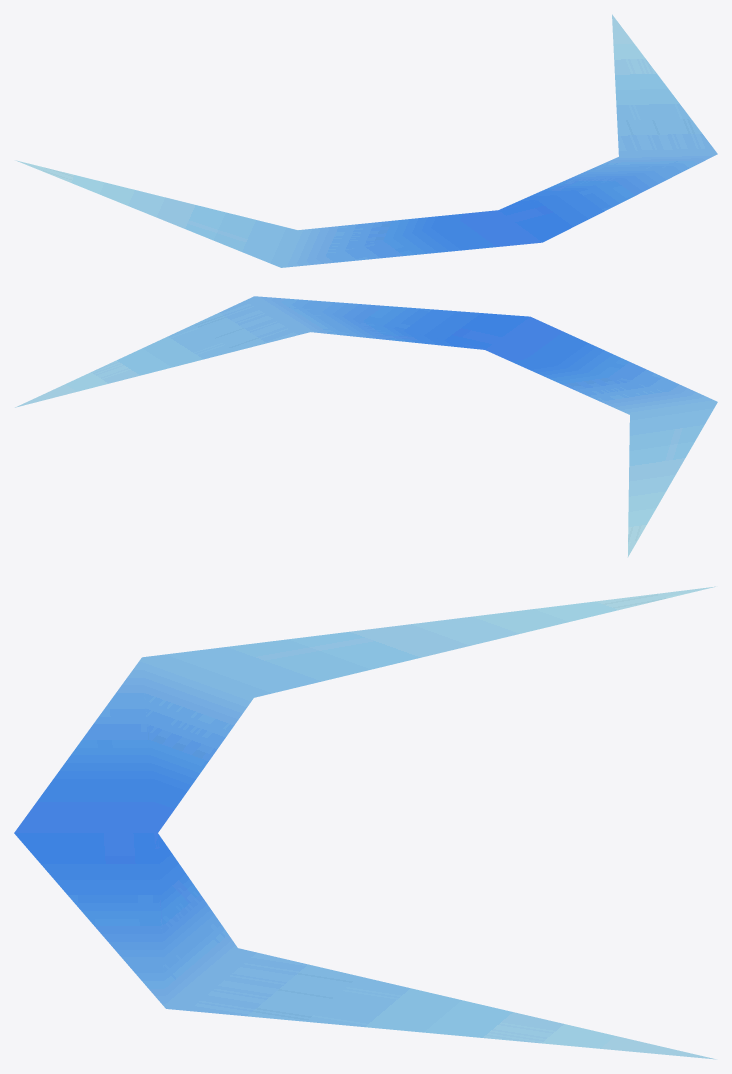
The model's file is p_001_tuowei2.glb.
3 views of the same model, one above another, from view 1: azimuth 30°, elevation 25°; view 2: azimuth 150°, elevation 25°; view 3: azimuth 270°, elevation 25° (orthographic). The views are drawn at different scales.
Visible parts, largest first — view 1: model; view 2: model; view 3: model.
Part boxes in pixels (box(x1,y1,x2,y2)): model: box(15, 14, 717, 267); model: box(15, 296, 717, 557); model: box(14, 586, 716, 1059).
Bounding box in the file's own units: 0.5469 × 0 × 0.3438.
1 material, 1 textured.
